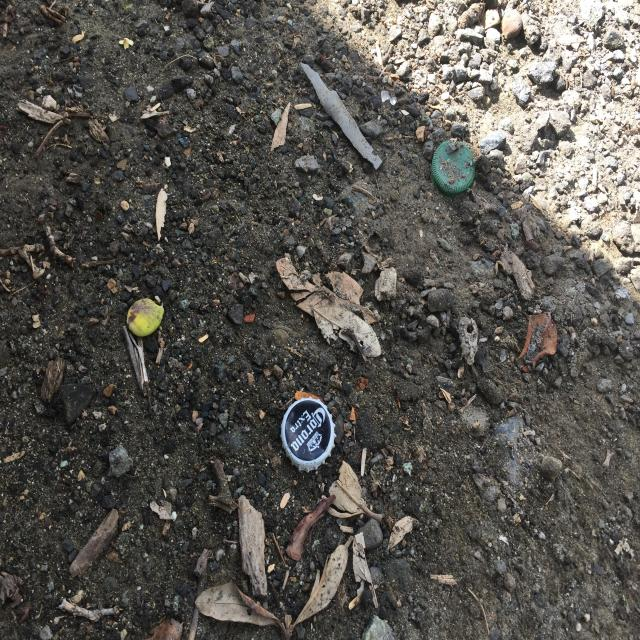litter: (279, 397, 336, 472), (430, 141, 476, 193)
